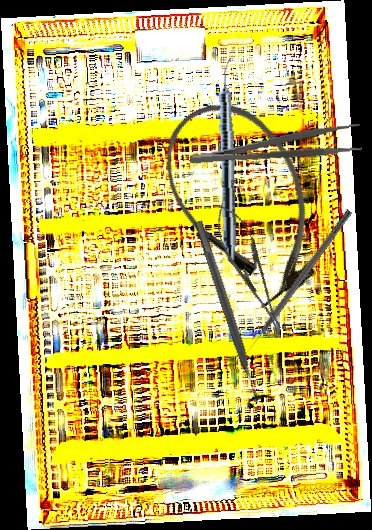Cannula: (143, 82, 345, 321)
Dressing Forceps: (188, 122, 362, 168)
Fixation Ring: (184, 216, 276, 410)
Handpiece: (215, 58, 243, 261)
Hook Surgical: (241, 208, 354, 357)
Needle Holder: (205, 197, 293, 337)
